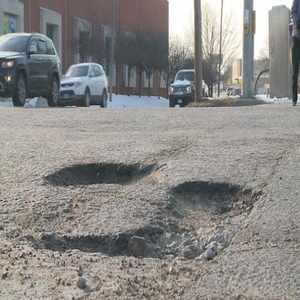pothole: (27, 178, 267, 276), (42, 159, 167, 197)
